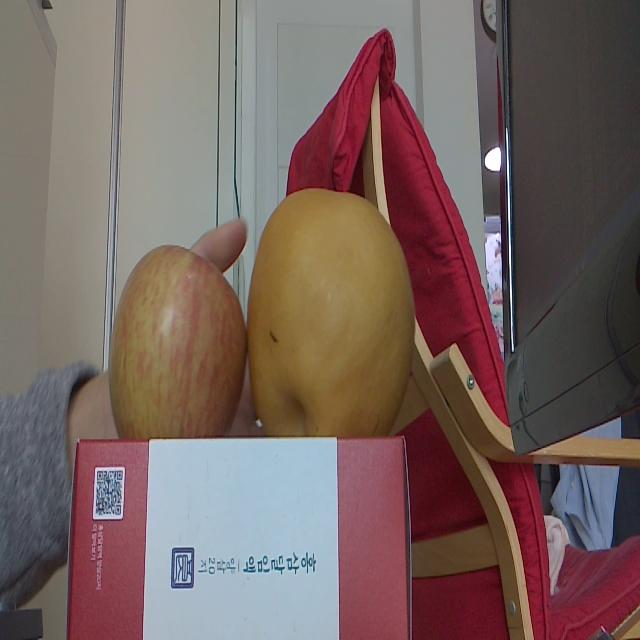apple: (111, 243, 246, 440)
pear: (248, 182, 416, 437)
